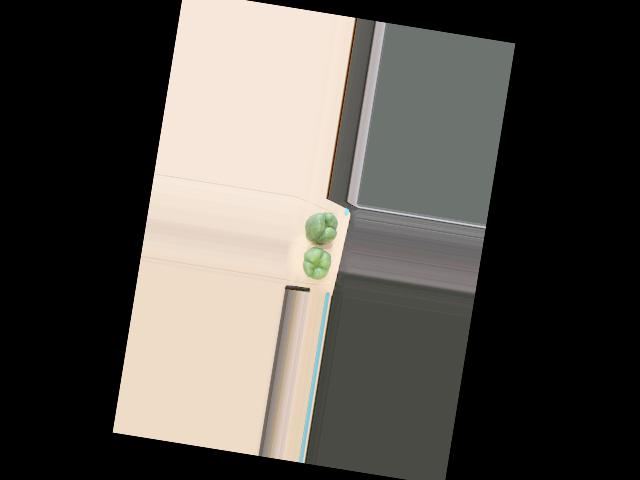bell_pepper: (296, 243, 333, 280)
